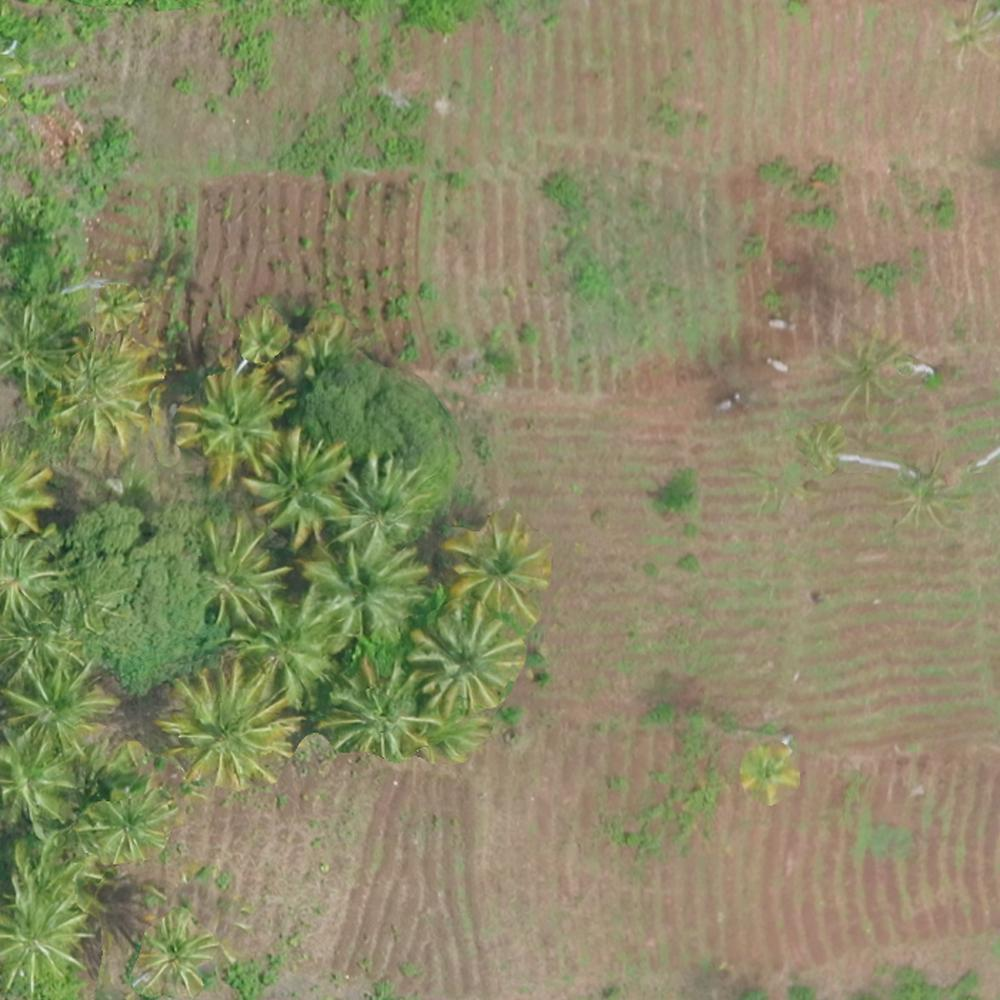Palm: (166, 664, 296, 794), (2, 652, 116, 757), (413, 602, 524, 708), (308, 539, 419, 642), (180, 366, 285, 474), (246, 432, 349, 535), (444, 518, 548, 618), (1, 884, 97, 992), (244, 595, 338, 701), (54, 340, 152, 440), (329, 664, 430, 761), (192, 526, 288, 625), (331, 457, 435, 543), (1, 740, 79, 841), (85, 792, 177, 866), (135, 915, 212, 993)
